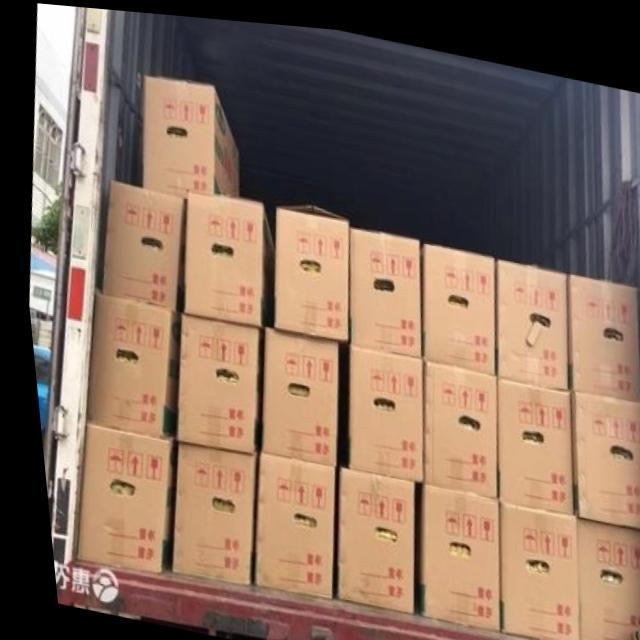box: (61, 424, 167, 570), (77, 293, 174, 437), (167, 310, 257, 452), (161, 440, 249, 584), (178, 185, 269, 322), (407, 475, 487, 625), (136, 73, 235, 194), (243, 448, 325, 592), (94, 179, 183, 311), (487, 493, 567, 636), (326, 462, 405, 606), (251, 323, 332, 463), (561, 382, 640, 517), (267, 199, 345, 332), (339, 338, 414, 475), (488, 369, 563, 505), (415, 354, 488, 492), (565, 508, 640, 640), (416, 237, 488, 366), (561, 264, 634, 391), (490, 252, 561, 382), (345, 224, 414, 352)
